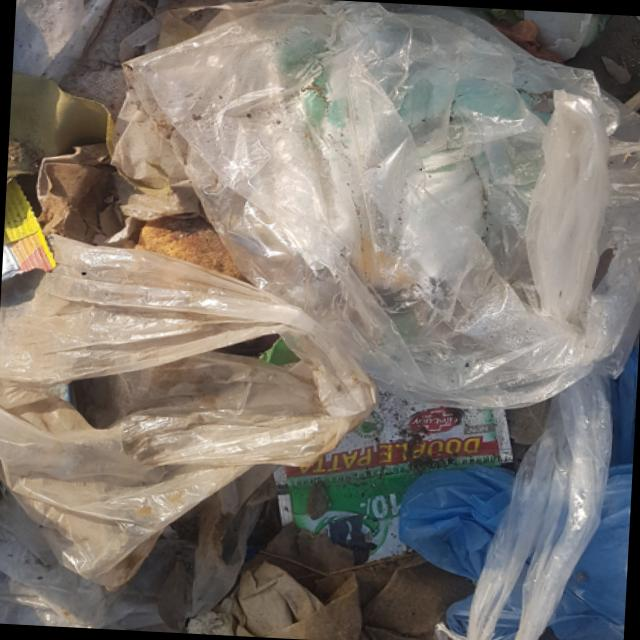electronic: (272, 378, 518, 573), (1, 128, 64, 296)
general: (103, 0, 640, 392)
